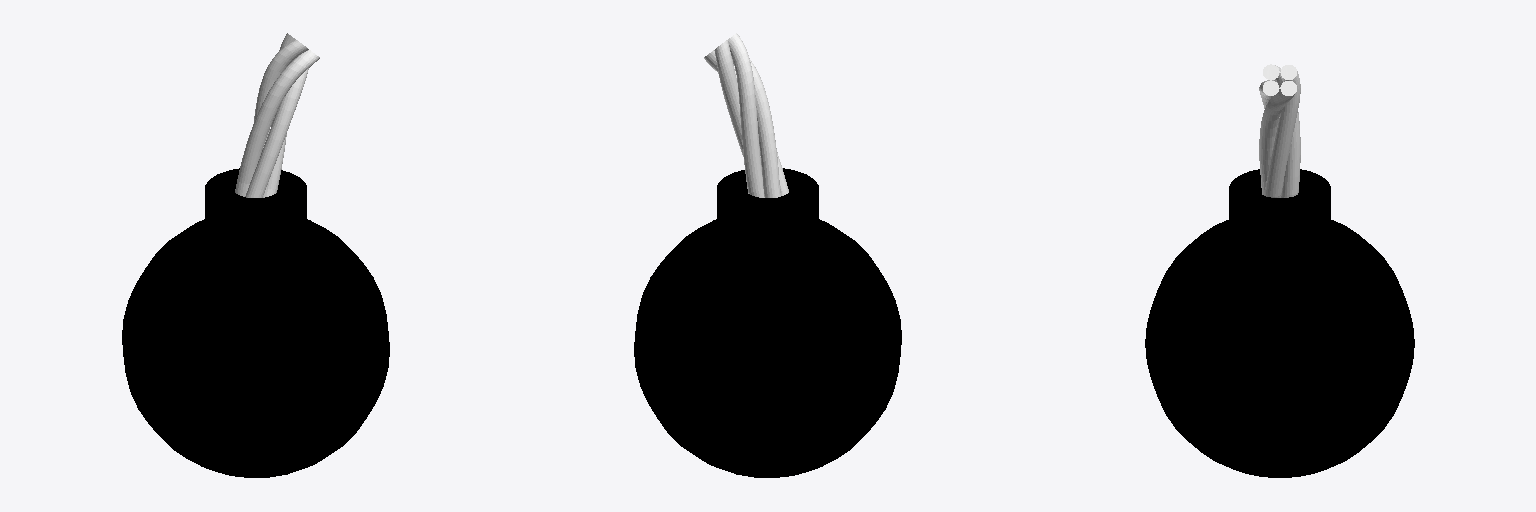
File: Bom01.obj
3 renders of one model, left to right at view 1: azimuth 30°, elevation 25°; view 2: azimuth 150°, elevation 25°; view 3: azimuth 270°, elevation 25°, orthographic.
Visible parts, largest first — view 1: bomblvl1_pSphere1, bomblvl1_pPipe1, pCylinder14_bomblvl1; view 2: bomblvl1_pSphere1, bomblvl1_pPipe1, pCylinder14_bomblvl1; view 3: bomblvl1_pSphere1, bomblvl1_pPipe1, pCylinder14_bomblvl1.
Part boxes in pixels (bbox=[...]): bomblvl1_pSphere1: bbox=[122, 219, 389, 477]; bomblvl1_pPipe1: bbox=[205, 168, 306, 252]; pCylinder14_bomblvl1: bbox=[235, 33, 319, 197]; bomblvl1_pSphere1: bbox=[634, 219, 901, 477]; bomblvl1_pPipe1: bbox=[717, 168, 818, 252]; pCylinder14_bomblvl1: bbox=[704, 33, 788, 197]; bomblvl1_pSphere1: bbox=[1145, 220, 1414, 477]; bomblvl1_pPipe1: bbox=[1229, 169, 1330, 252]; pCylinder14_bomblvl1: bbox=[1259, 64, 1300, 197].
Bounding box in the file's own units: 4.21 × 7.23 × 4.21.